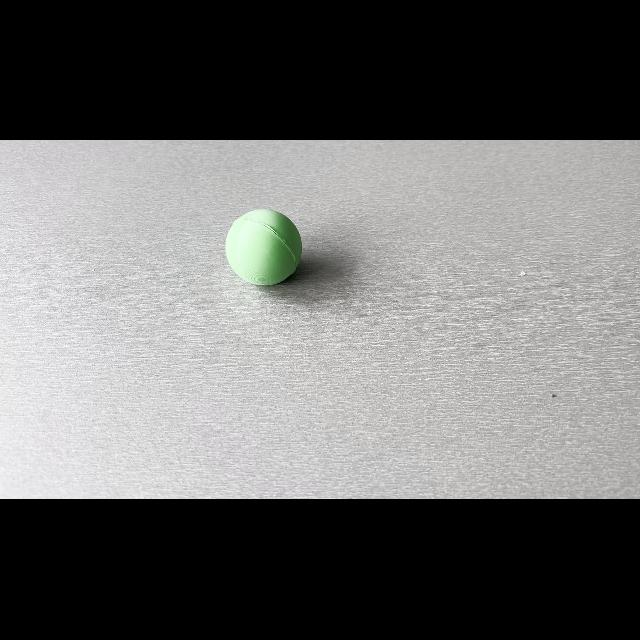objects: (218, 202, 314, 292)
